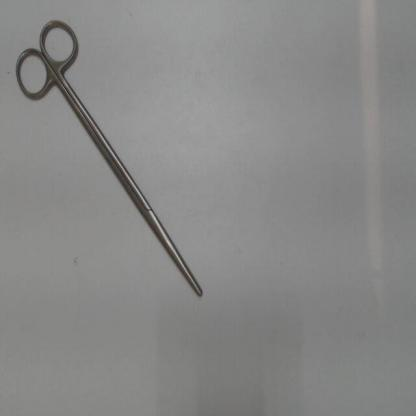9 Metzenbaum Scissors: (9, 10, 208, 304)
